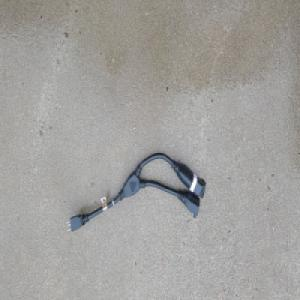Wire: (63, 151, 207, 235)
